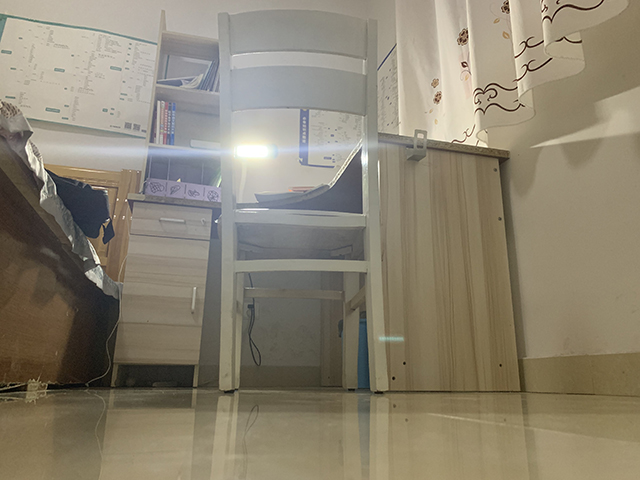bed: (1, 96, 144, 392)
curtain: (392, 4, 632, 139)
stool: (213, 7, 391, 395)
table: (106, 139, 515, 395)
wire: (85, 252, 128, 389)
